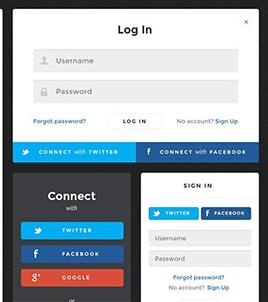button: (11, 141, 136, 163), (136, 141, 260, 163), (19, 245, 124, 264), (20, 221, 124, 240), (19, 269, 122, 287), (200, 206, 251, 221), (148, 206, 199, 220)
field: (33, 80, 240, 104), (32, 49, 238, 72), (149, 229, 253, 247), (149, 252, 252, 268)
